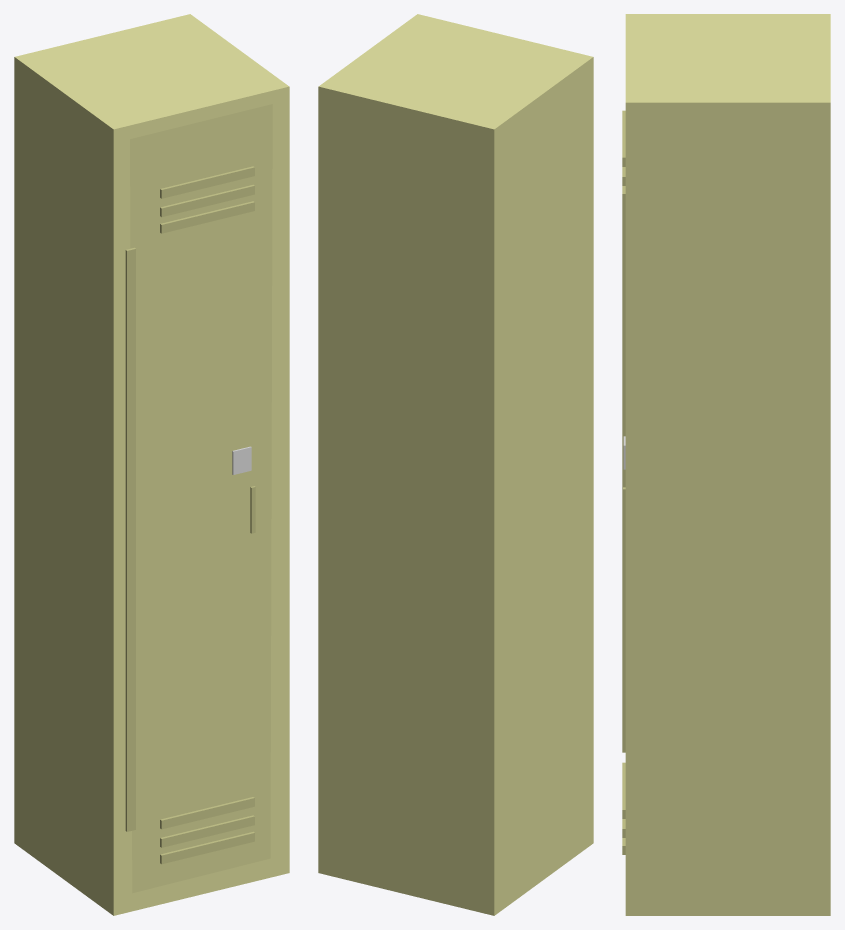
File: locker_4.fbx
3 views of the same model, side by side, from view 1: azimuth 30°, elevation 25°; view 2: azimuth 150°, elevation 25°; view 3: azimuth 270°, elevation 25° (orthographic). The views are drawn at different scales.
Parts seen in each view (by area): view 1: Cube_4; view 2: Cube_4; view 3: Cube_4.
Boxes of the visible parts, x1,y1,x2,y2 form: Cube_4: (14, 14, 289, 915); Cube_4: (318, 14, 593, 915); Cube_4: (622, 14, 830, 915).
Size of the model in its own units: 63.35 by 271 by 62.81.
